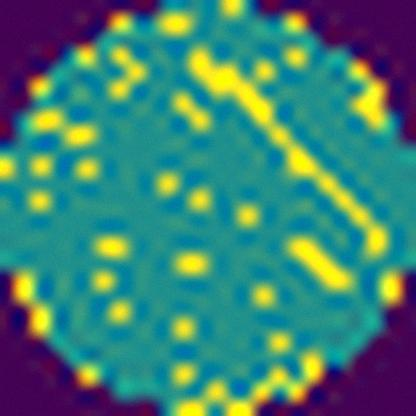Scratch: (177, 43, 398, 264)
